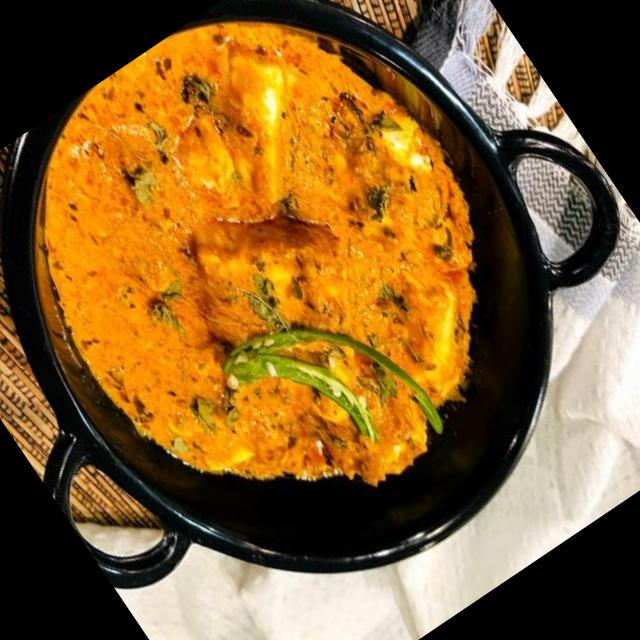ShahiPaneer: (0, 0, 582, 589)
